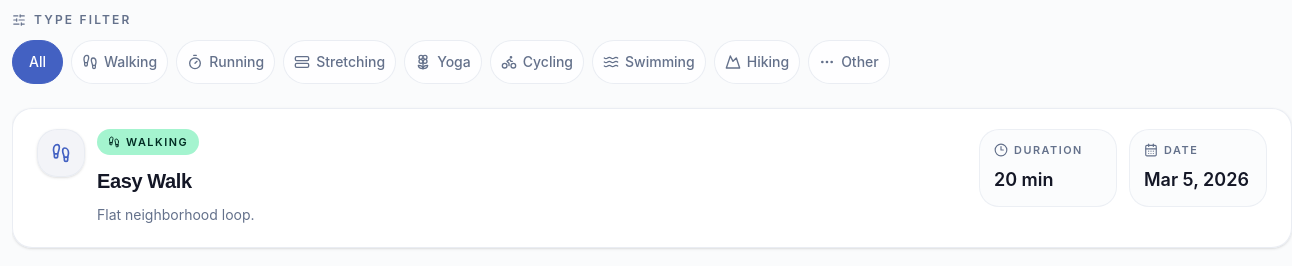
Test: ActivityList › shows an empty state when a filter has no matching activities
Step 1. Click the button "Yoga" → (443, 62), box [404,40,482,84]
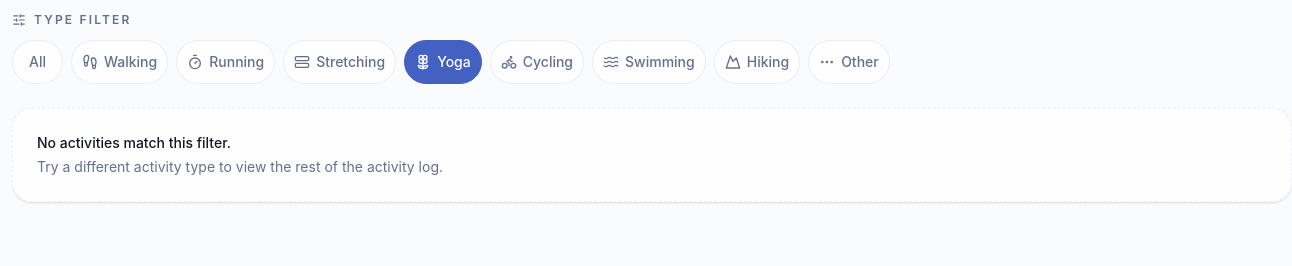
Now the text "No activities match this filter." is shown, box [37,134,231,151]
Now the text "Try a different activity type to view the rest of the activity log." is shown, box [37,158,443,175]
